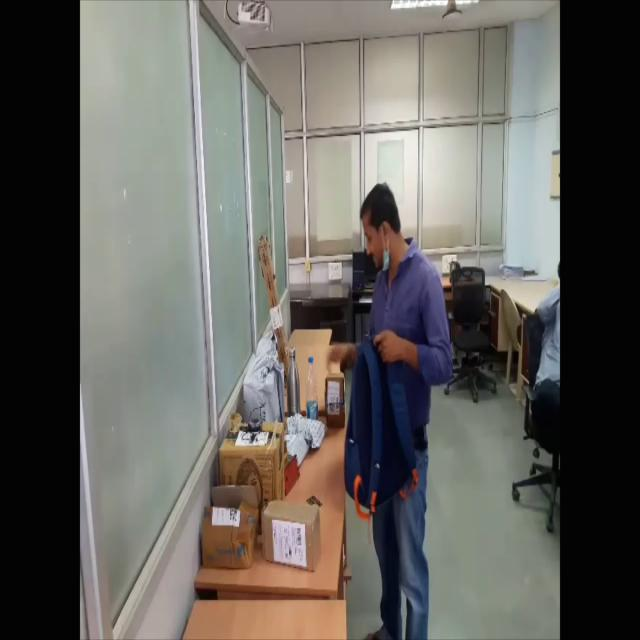shoplifting: (330, 183, 453, 639)
